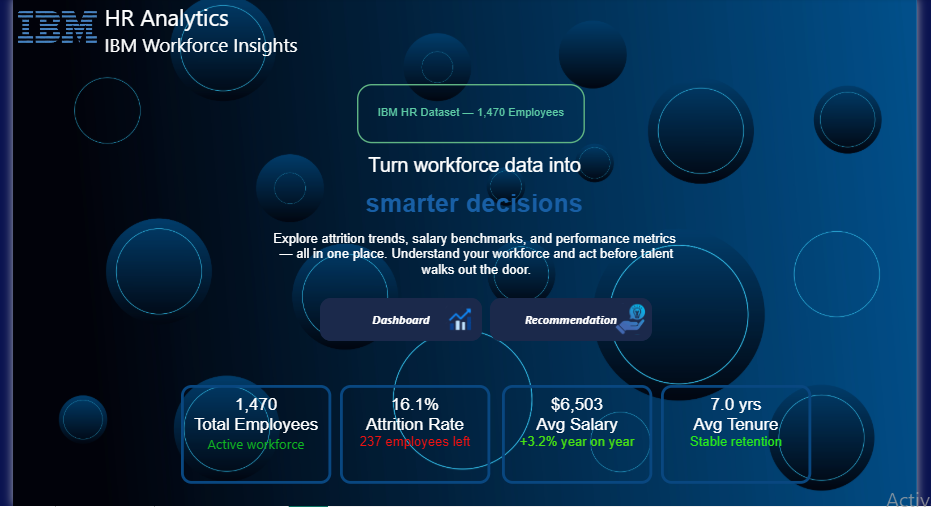

The dashboard page shown, as its layout file describes it:
{"tool":"powerbi","page":{"name":"Home","canvas":[1280,720],"ordinal":0},"visuals":[{"type":"textbox","box":[124.7,0,377,107.7],"z":0},{"type":"image","box":[0,0,136.1,89.3],"z":1000},{"type":"actionButton","box":[676.1,425.2,229.6,60.9],"z":2000},{"type":"actionButton","box":[435.1,425.2,229.6,60.9],"z":3000},{"type":"textbox","box":[487.6,121.9,323.1,83.6],"z":4000},{"type":"textbox","box":[256.5,216.9,795.1,208.3],"z":5000},{"type":"textbox","box":[238.1,548.5,212.6,140.3],"z":6000},{"type":"textbox","box":[463.5,548.5,212.6,140.3],"z":7000},{"type":"textbox","box":[693.1,548.5,212.6,140.3],"z":8000},{"type":"textbox","box":[918.4,548.5,212.6,140.3],"z":9000}]}

Visuals, with their boxes on the page's 1280x720 design canvas (x1, y1, x2, y2). These are canvas units, not pixel positions in the 931x507 screenshot, which may show the page scaled, cropped or inside an application window:
textbox: left=125, top=0, right=502, bottom=108
image: left=0, top=0, right=136, bottom=89
actionButton: left=676, top=425, right=906, bottom=486
actionButton: left=435, top=425, right=665, bottom=486
textbox: left=488, top=122, right=811, bottom=206
textbox: left=256, top=217, right=1052, bottom=425
textbox: left=238, top=548, right=451, bottom=689
textbox: left=464, top=548, right=676, bottom=689
textbox: left=693, top=548, right=906, bottom=689
textbox: left=918, top=548, right=1131, bottom=689
